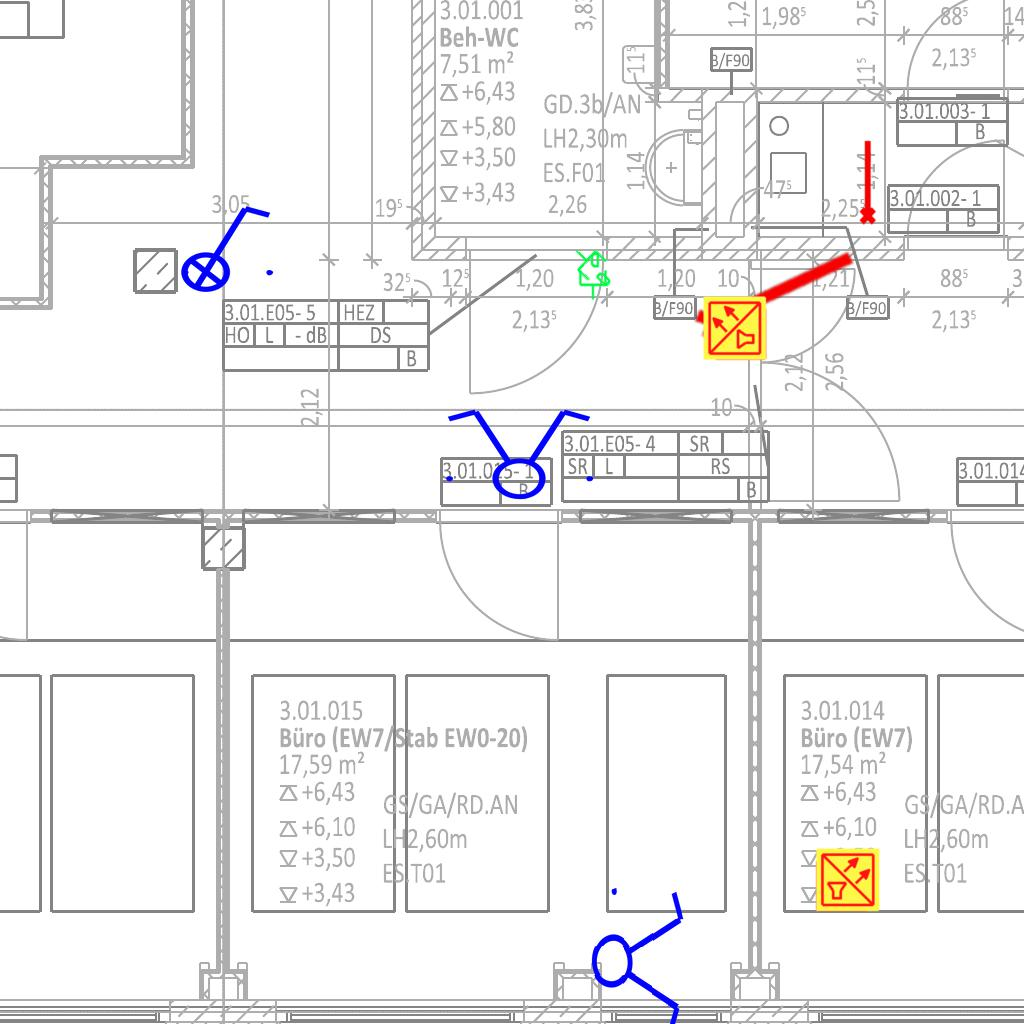ASR_Ansaugoeffnung: (685, 231, 865, 349), (855, 138, 878, 226)
Ausschalter_beleuchtet: (167, 198, 279, 294)
Datenanschluss_einfach: (564, 236, 624, 296), (575, 251, 609, 301)
OKW_Multisensormelder_(Kombination_optischer_Rauch-Kahlenmonoxid_Waerme-Melder): (815, 847, 881, 913), (702, 295, 768, 361)
Serienschalter: (434, 405, 602, 501), (587, 875, 689, 1024)
